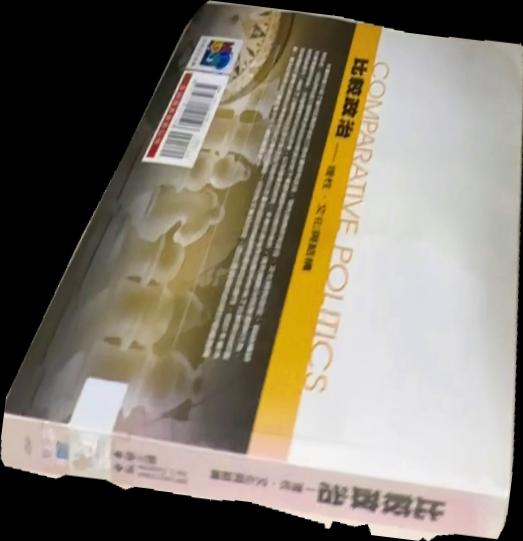flat: (1, 1, 523, 541)
